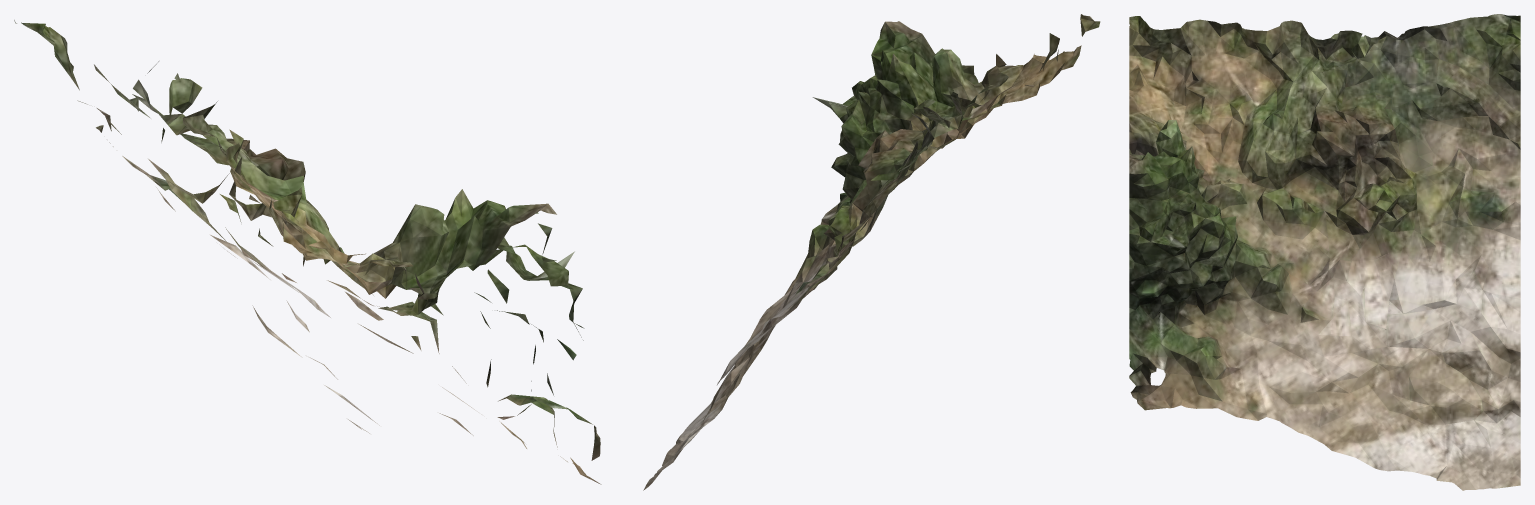
3 renders of one model, left to right at view 1: azimuth 30°, elevation 25°; view 2: azimuth 150°, elevation 25°; view 3: azimuth 270°, elevation 25°, orthographic. The views are drawn at different scales.
Bounding box in the file's own units: 4.35 × 5.9 × 5.9.
4 materials, 4 textured.
